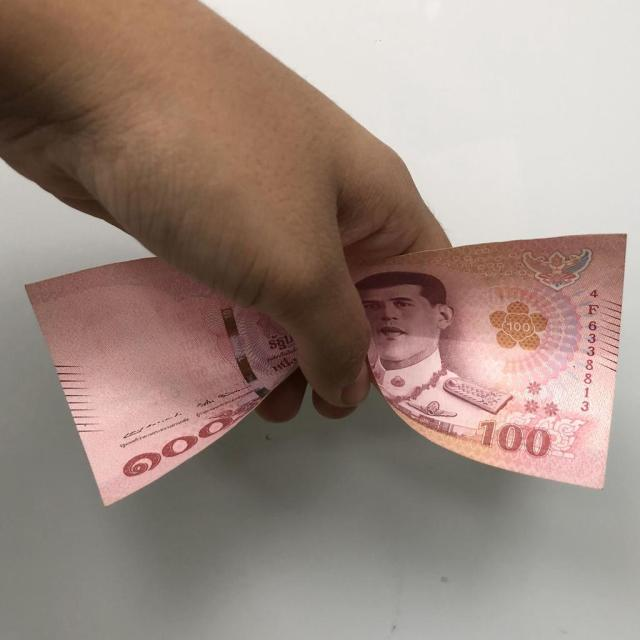THAI100: (358, 234, 629, 491), (24, 257, 301, 508)
